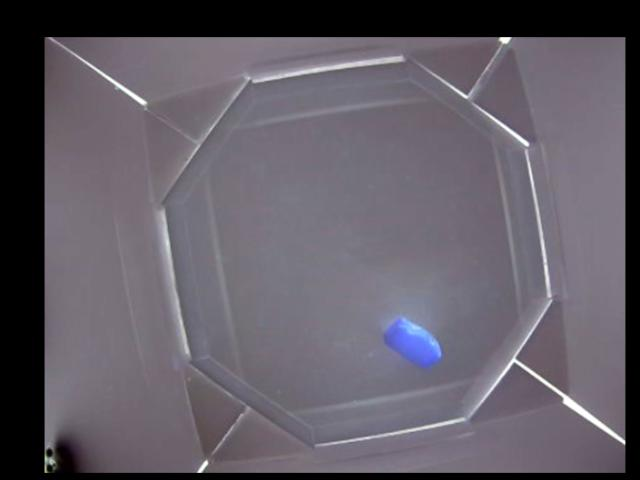Potato: (384, 318, 442, 367)
